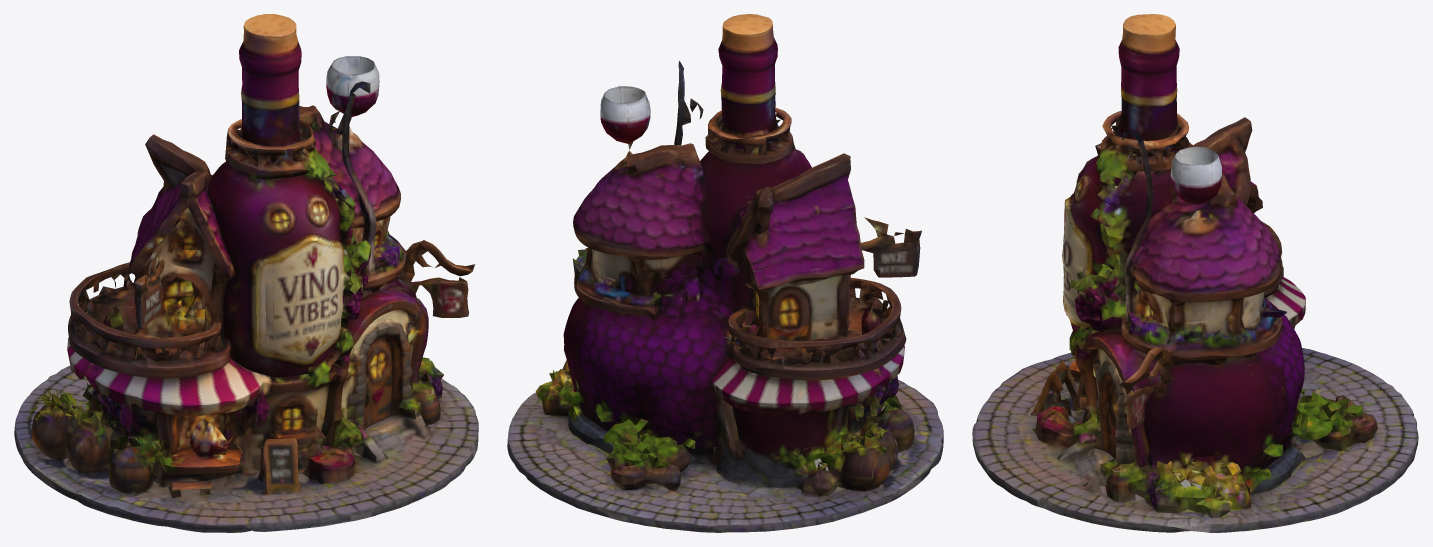
Rendered from vino_vibes.glb.
3 views of the same model, side by side, from view 1: azimuth 30°, elevation 25°; view 2: azimuth 150°, elevation 25°; view 3: azimuth 270°, elevation 25° (orthographic). The views are drawn at different scales.
Visible parts, largest first — view 1: output; view 2: output; view 3: output.
Boxes of the visible parts, x1,y1,x2,y2 form: output: (14, 14, 478, 532); output: (507, 14, 943, 532); output: (972, 14, 1418, 532).
Size of the model in its own units: 1.97 by 2.01 by 1.95.
1 material, 1 textured.
